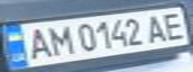0: (72, 20, 96, 52)
1: (93, 17, 112, 51)
2: (121, 15, 148, 47)
4: (109, 16, 130, 48)
A: (18, 25, 54, 61), (142, 11, 172, 44)
E: (157, 9, 190, 42)
M: (42, 22, 75, 56)
